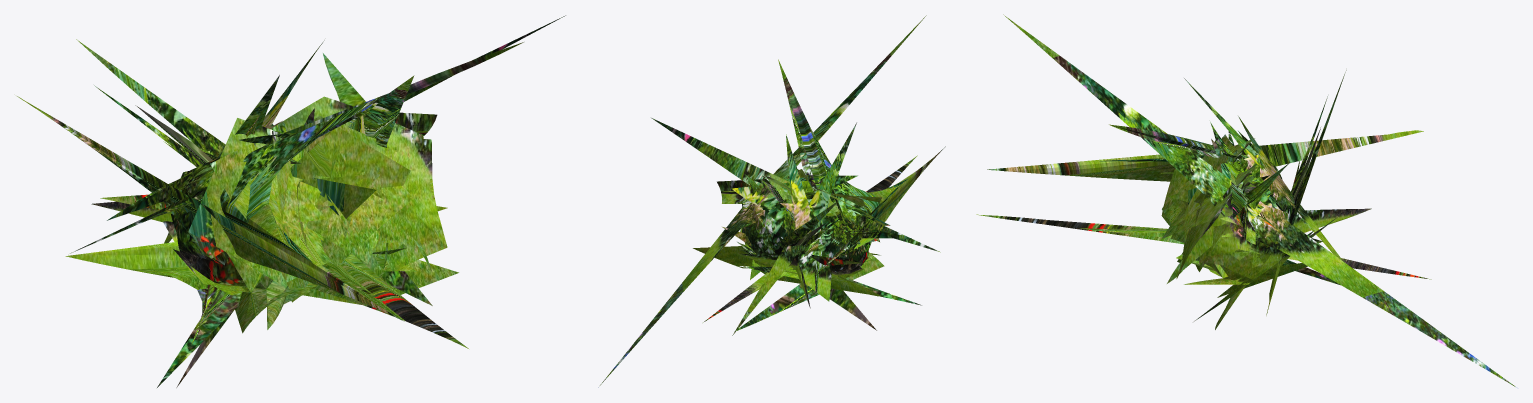
File: flor12.gltf
3 views of the same model, side by side, from view 1: azimuth 30°, elevation 25°; view 2: azimuth 150°, elevation 25°; view 3: azimuth 270°, elevation 25° (orthographic). The views are drawn at different scales.
Visible parts, largest first — view 1: Icosphere.001; view 2: Icosphere.001; view 3: Icosphere.001.
Part boxes in pixels (<box>): Icosphere.001: <box>17,15,565,387</box>; Icosphere.001: <box>598,15,945,387</box>; Icosphere.001: <box>976,14,1516,387</box>.
Size of the model in its own units: 8.01 by 6.58 by 10.66.
Materials: 1 (1 with a texture image).
